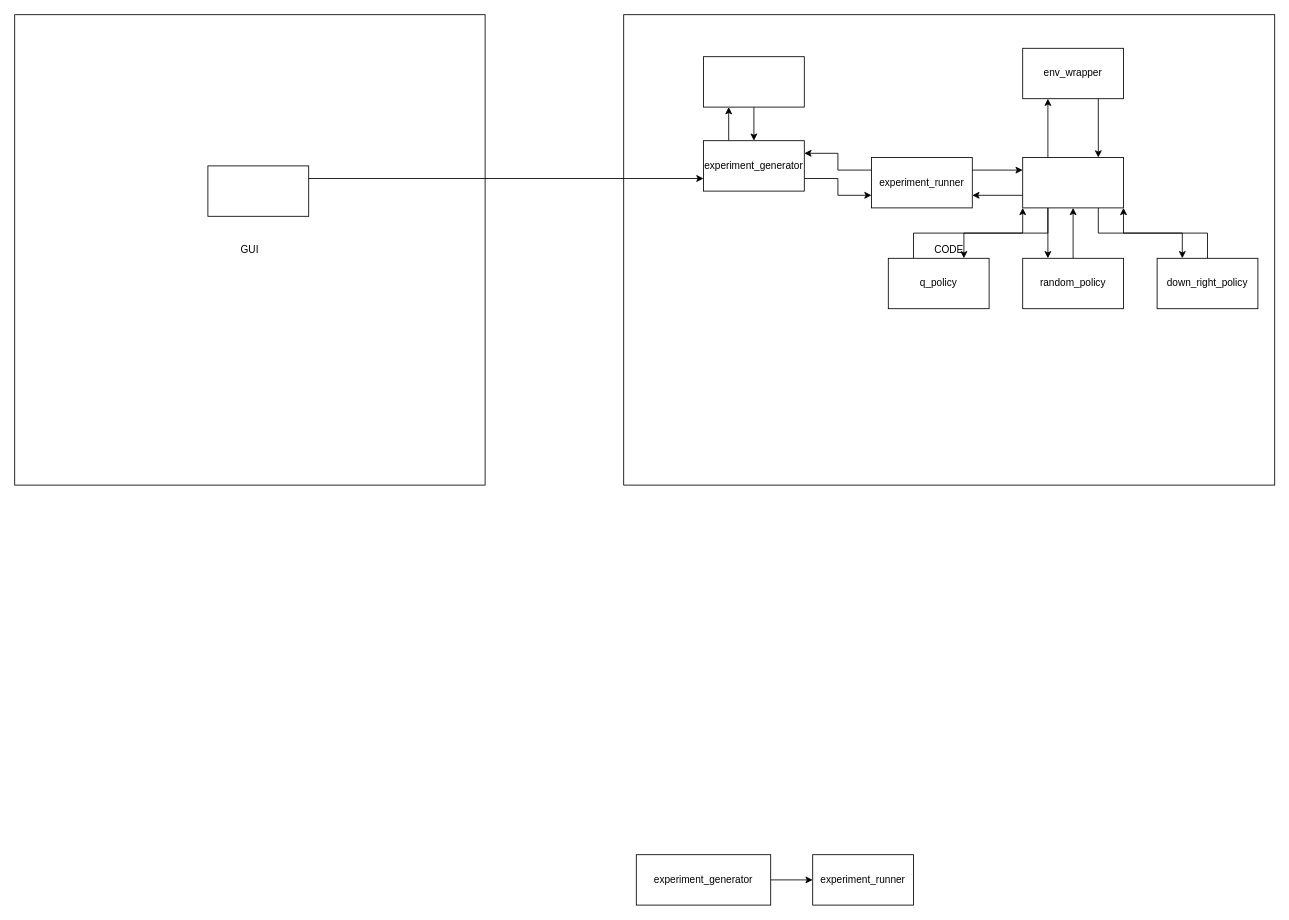
Image size: 1289x920. Some labels were removed from this diagram. Each missing label, with the centre of its shape:
Button: (258,190)
ch4_visualizer: (753,81)
policy_orchestrator: (1073,182)
